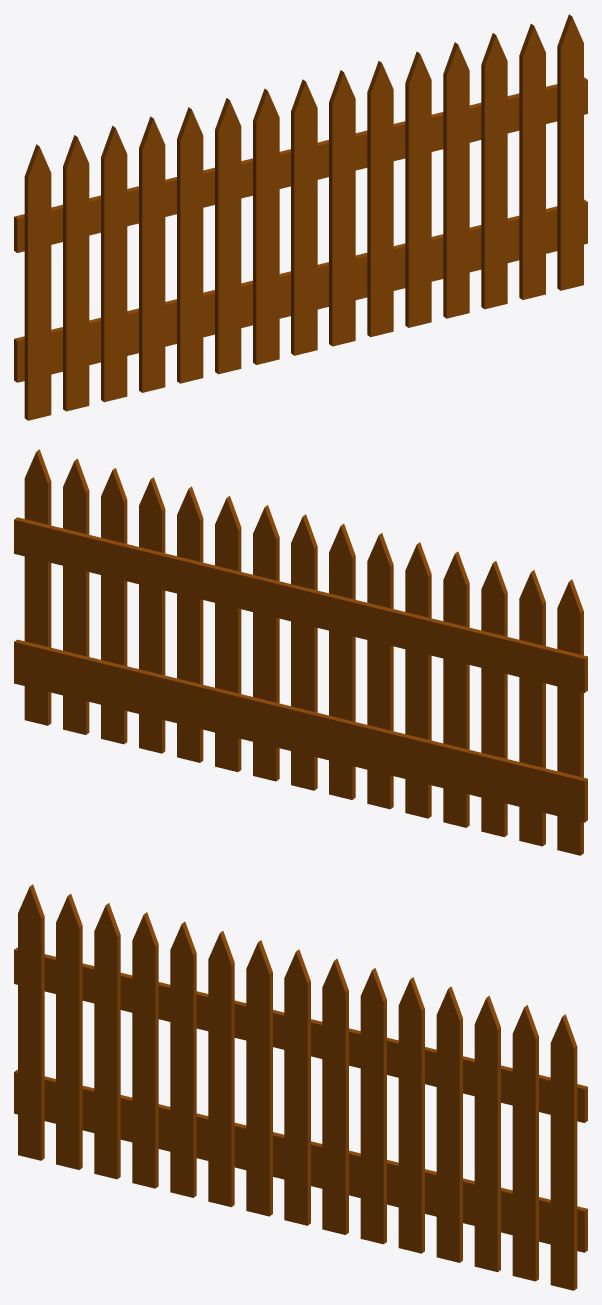
The model's file is WoodenFence.fbx.
3 renders of one model, top to bottom at view 1: azimuth 30°, elevation 25°; view 2: azimuth 150°, elevation 25°; view 3: azimuth 330°, elevation 25°, orthographic.
Parts seen in each view (by area): view 1: Cube; view 2: Cube; view 3: Cube.
Part boxes in pixels (x1,y1,x2,y2): Cube: [14, 14, 587, 420]; Cube: [14, 449, 587, 855]; Cube: [14, 884, 587, 1290].
Size of the model in its own units: 493 by 224 by 10.
